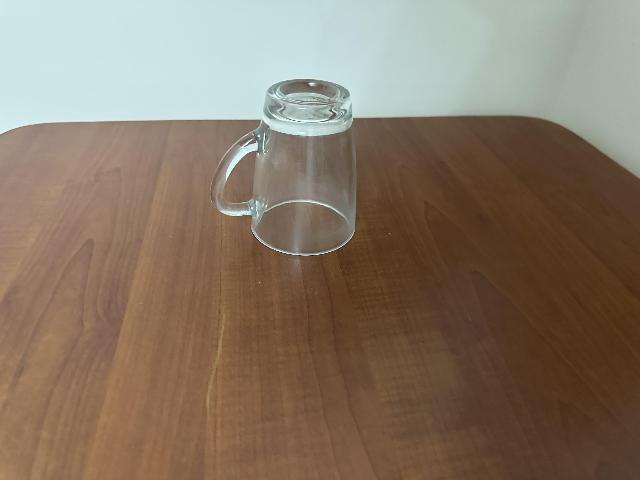Cam: (208, 76, 360, 258)
